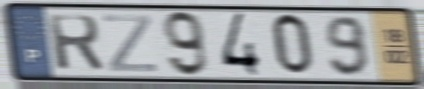0: (268, 11, 317, 80)
4: (217, 10, 266, 79)
9: (161, 9, 210, 79), (324, 14, 373, 79)
R: (45, 13, 107, 73)
Z: (101, 13, 159, 75)
